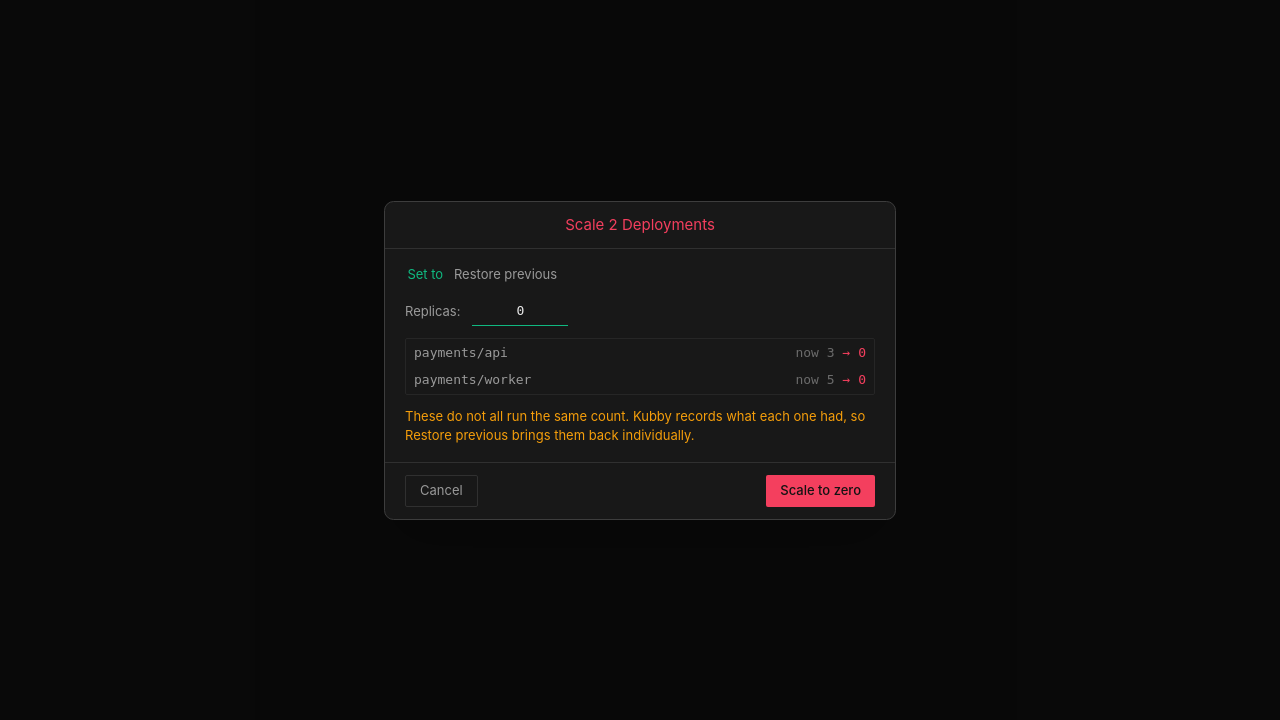
it: BulkScaleDialog › names what was refused and keeps the dialog open
What coordinates should you click on to do the following:
click the button "Scale to zero"
I would click on:
 (821, 490)
Its box is [766,474,875,506].
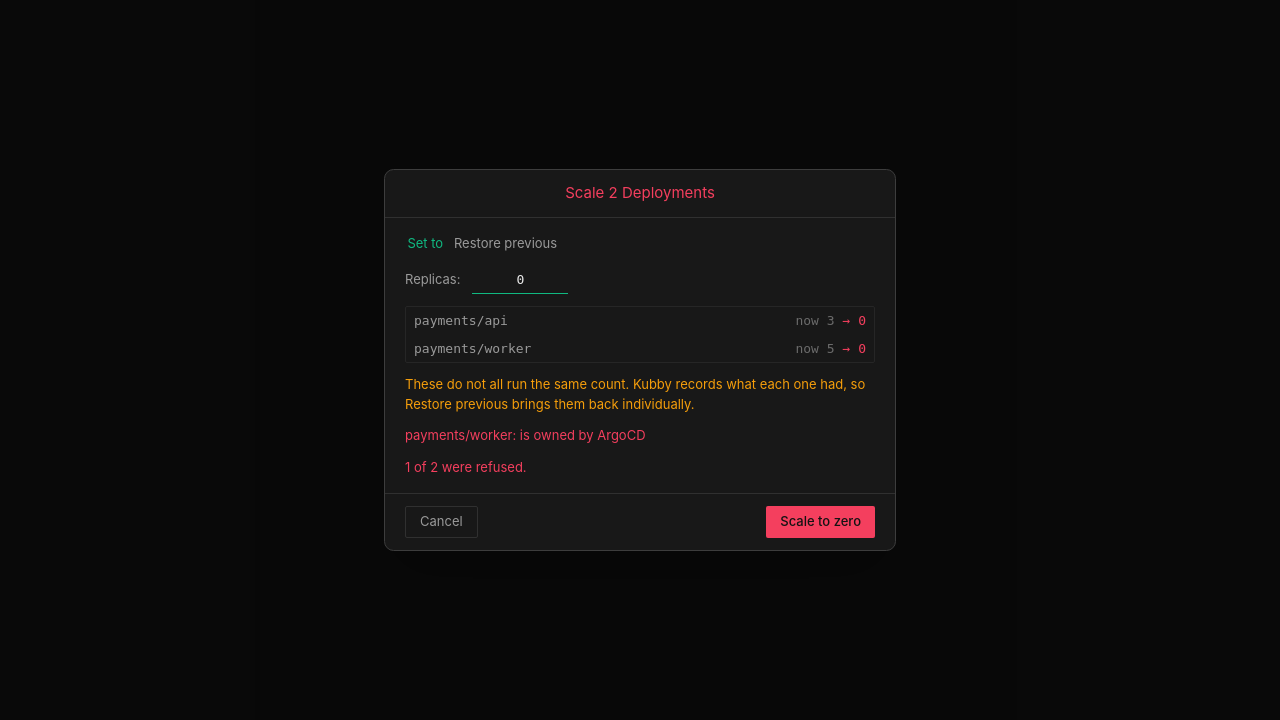
Expected: the text "payments/worker: is owned by ArgoCD" is shown, [405,427,646,443]
